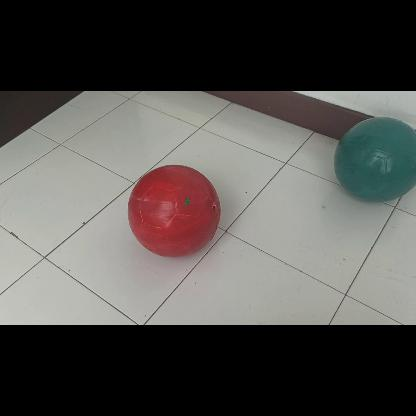red_ball: (126, 164, 221, 258)
